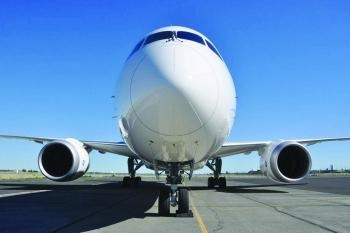airplane: (17, 20, 337, 216)
